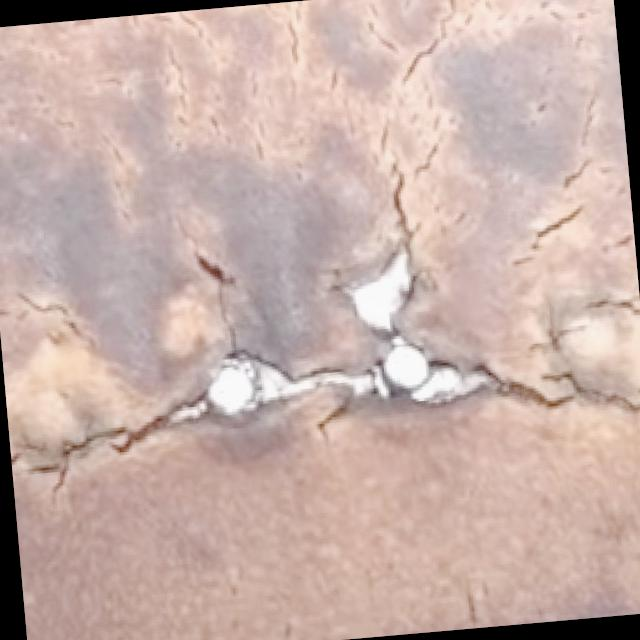crack: (17, 391, 232, 508), (194, 232, 274, 370), (374, 149, 436, 265)
